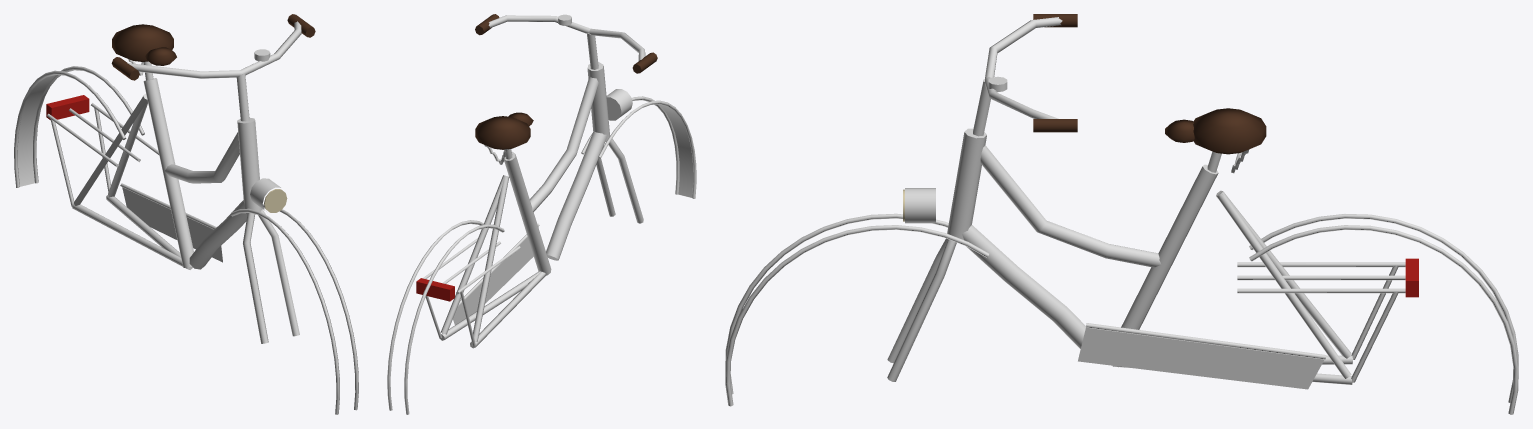
File: bicycle.glb
3 renders of one model, left to right at view 1: azimuth 30°, elevation 25°; view 2: azimuth 150°, elevation 25°; view 3: azimuth 270°, elevation 25°, orthographic. The views are drawn at different scales.
Visible parts, largest first — view 1: bicycle; view 2: bicycle; view 3: bicycle.
Boxes of the visible parts, x1,y1,x2,y2 form: bicycle: (14,14,358,414); bicycle: (387,14,696,414); bicycle: (725,14,1518,414).
Size of the model in its own units: 0.592 by 0.8566 by 1.79.
